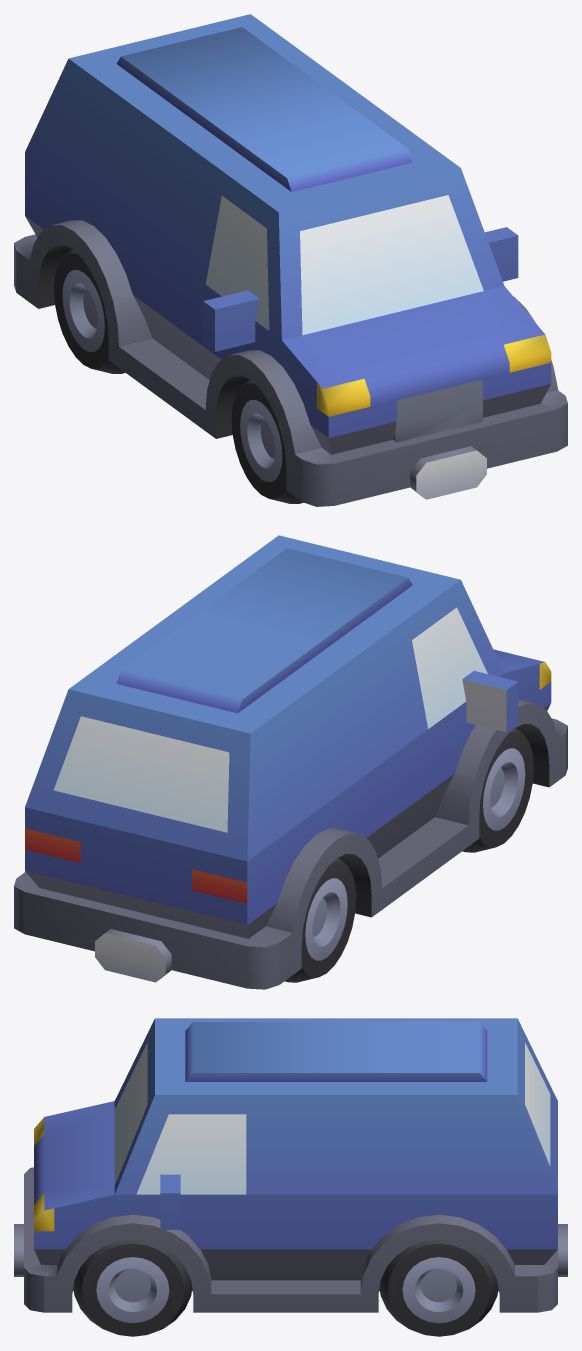
The model's file is van.glb.
3 views of the same model, one above another, from view 1: azimuth 30°, elevation 25°; view 2: azimuth 150°, elevation 25°; view 3: azimuth 270°, elevation 25° (orthographic). The views are drawn at different scales.
Visible parts, largest first — view 1: body, wheel-front-right, wheel-back-right; view 2: body, wheel-back-right, wheel-front-right; view 3: body, wheel-front-left, wheel-back-left.
Boxes of the visible parts, x1,y1,x2,y2 form: body: [14, 14, 567, 506]; wheel-front-right: [231, 379, 303, 503]; wheel-back-right: [54, 249, 125, 373]; body: [14, 535, 567, 989]; wheel-back-right: [285, 858, 356, 982]; wheel-front-right: [462, 728, 533, 852]; body: [14, 1018, 567, 1312]; wheel-front-left: [73, 1239, 192, 1336]; wheel-back-left: [379, 1239, 498, 1336].
Size of the model in its own units: 0.5455 by 0.4909 by 1.
Materials: 1 (1 with a texture image).
